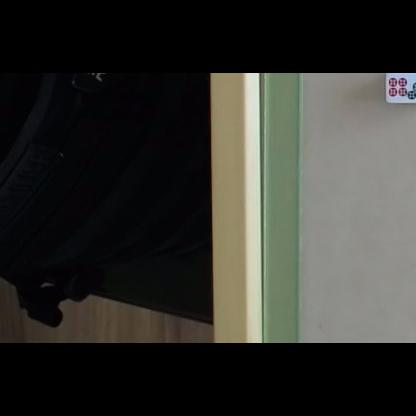7p: (388, 73, 416, 99)
